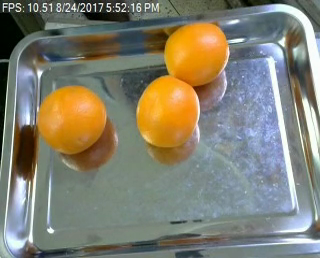Orange: (37, 85, 106, 155), (135, 76, 200, 149), (163, 20, 229, 83)
